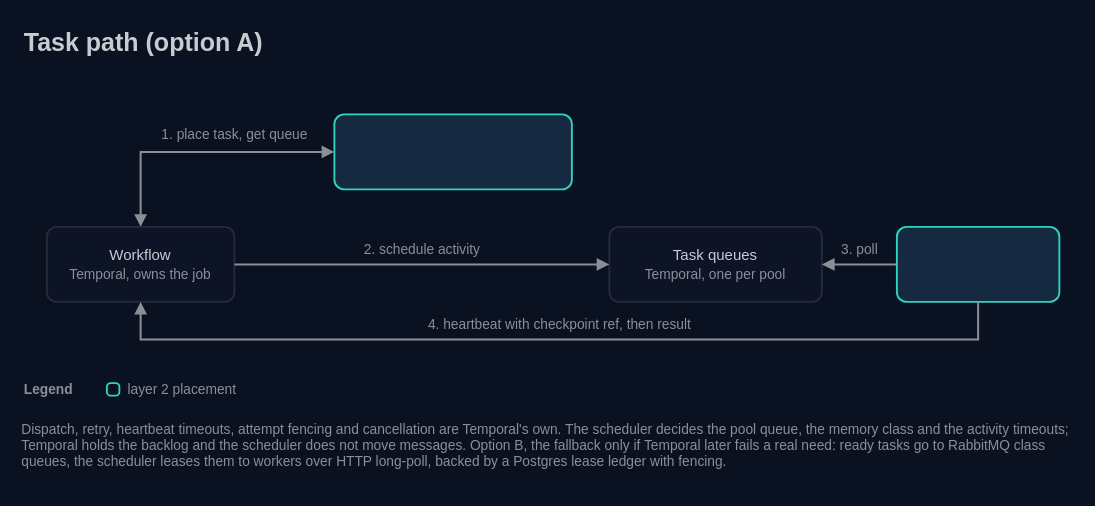
The diagram is 1095 pixels wide and 506 high, and some of its shapes have lost their labels. The shapes that lost their labels are listed below. From the top down, each one's centre as x and y in pixels, then its label:
[452,151]: Scheduler service chooses queue and memory class
[977,263]: Workers poll, run, heartbeat
